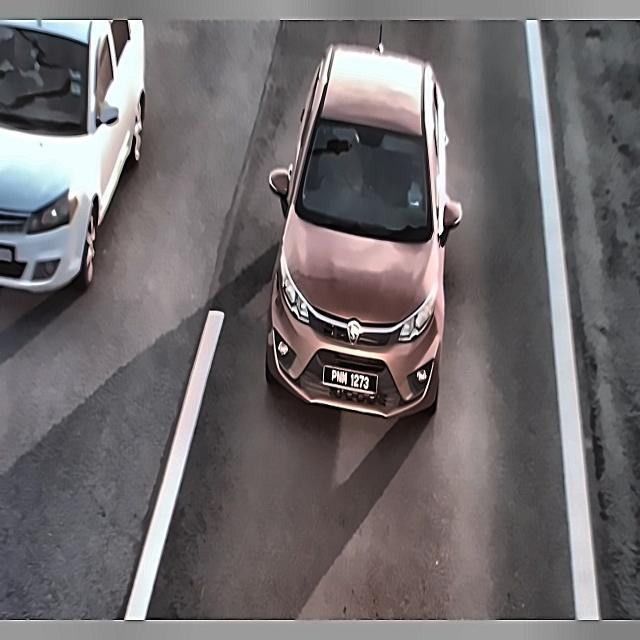car: (322, 353, 382, 399), (0, 242, 14, 269)
